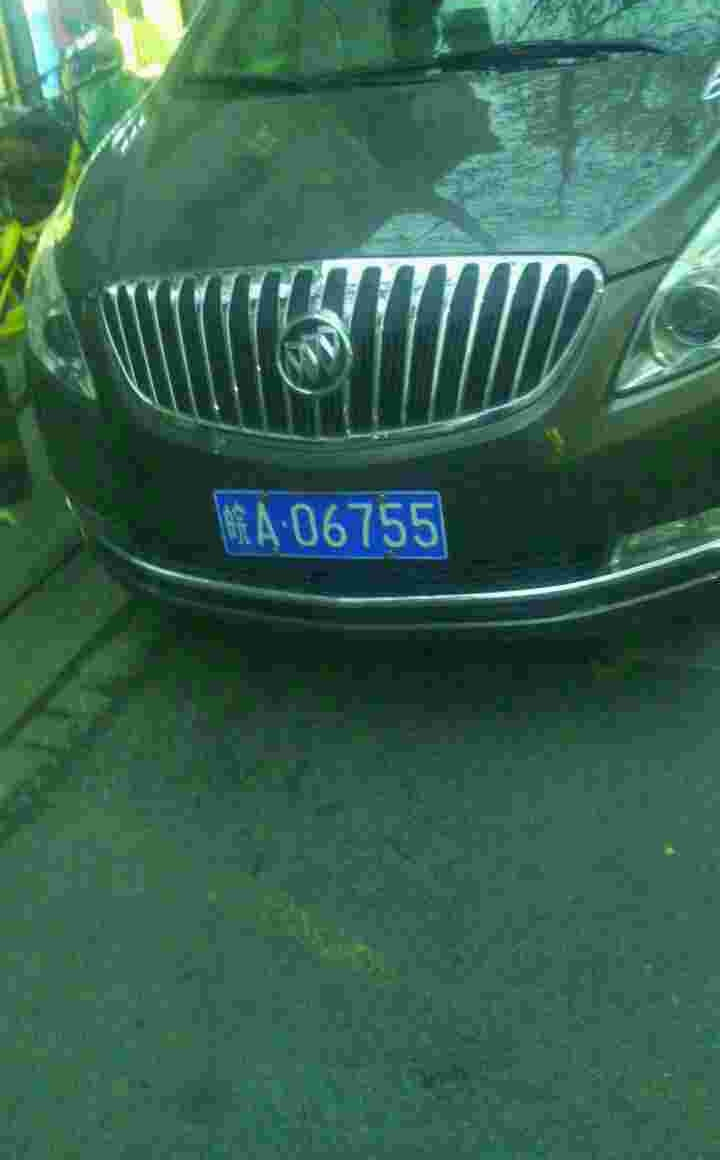plate: (210, 486, 454, 564)
